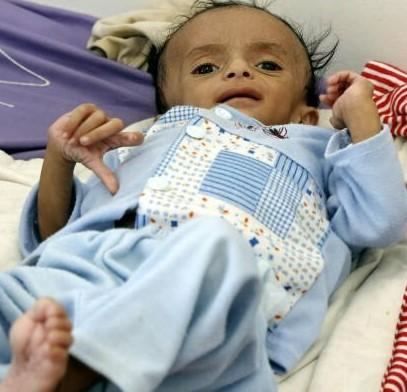Stunting: (140, 3, 325, 170)
